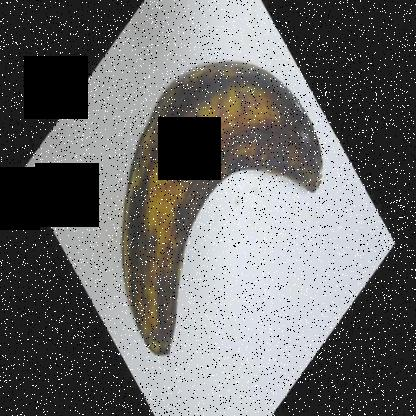overripe: (113, 32, 350, 374)
